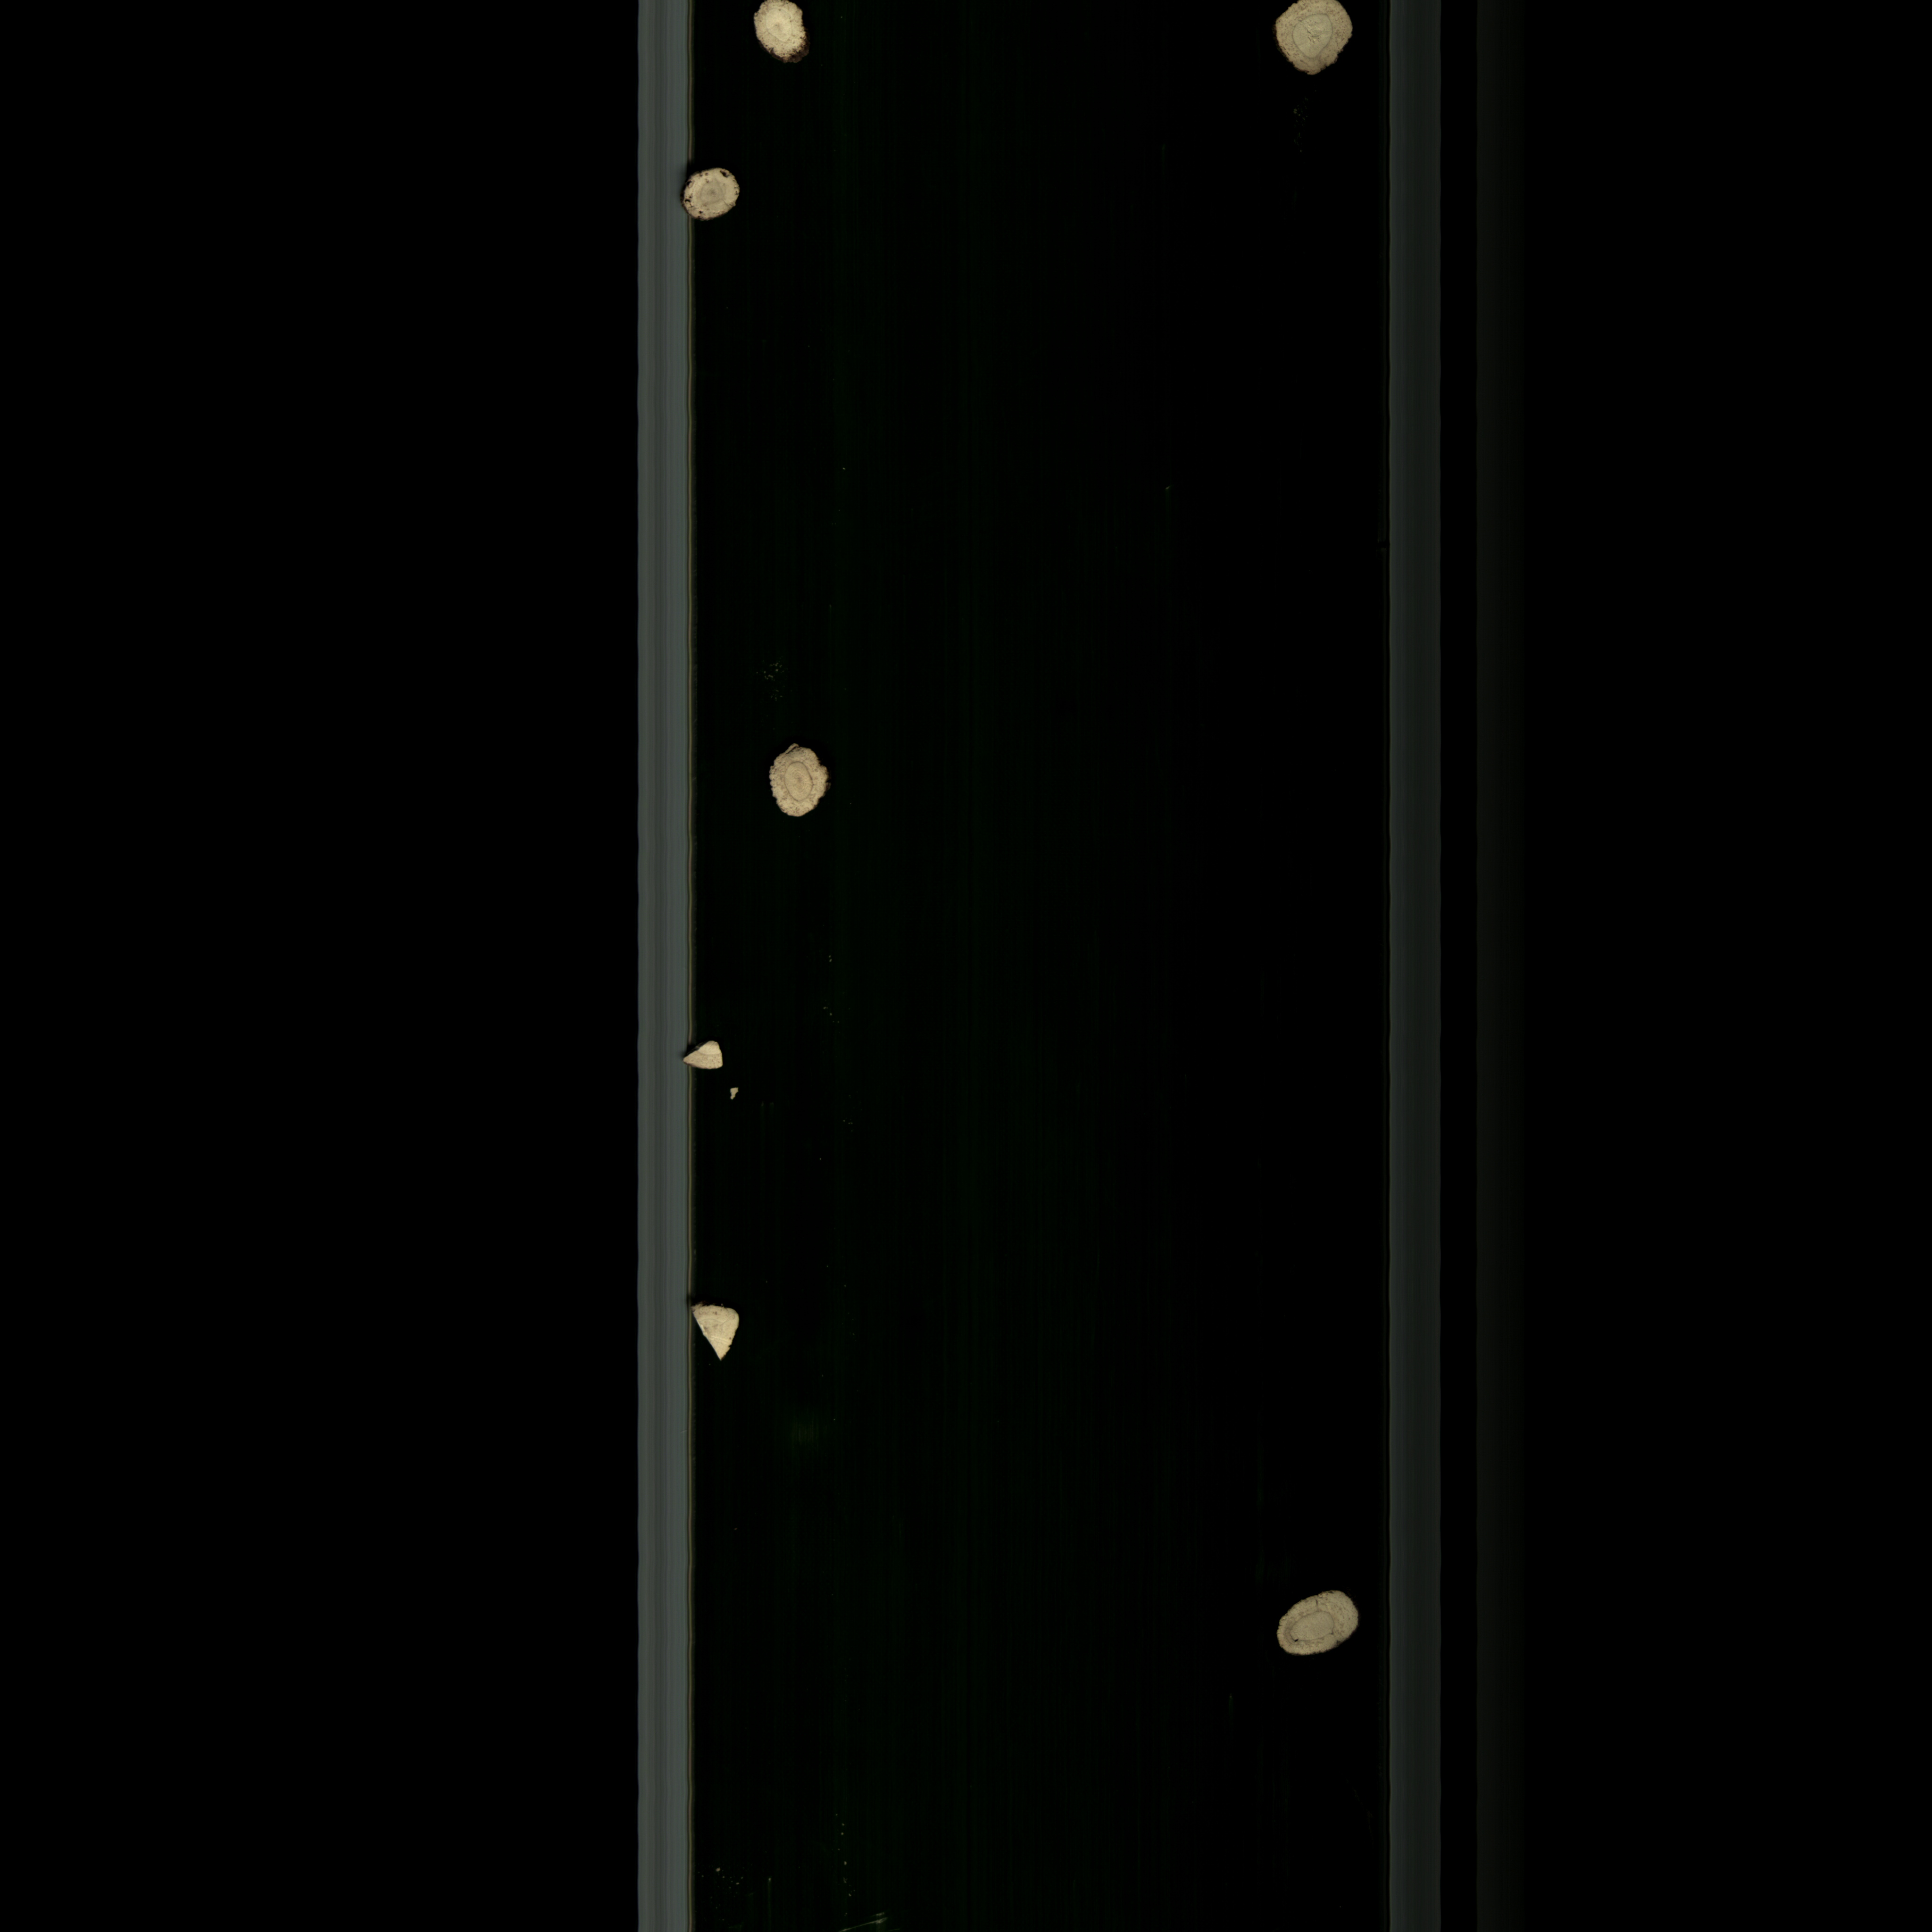distortion: (1269, 1578, 1371, 1668)
dreg: (694, 1286, 750, 1380), (672, 1042, 734, 1076), (731, 1085, 748, 1106)
hole: (678, 168, 761, 226)
